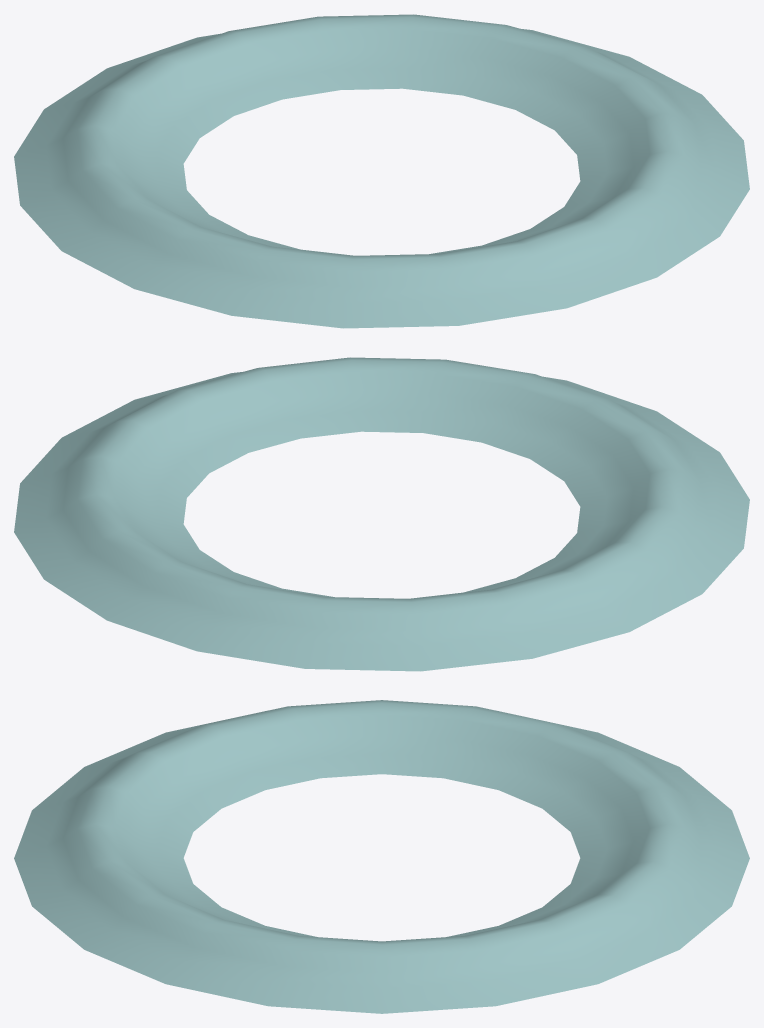
Rendered from ripple.FBX.
The picture shows the model from 3 angles, top to bottom: view 1: azimuth 30°, elevation 25°; view 2: azimuth 150°, elevation 25°; view 3: azimuth 270°, elevation 25°; orthographic projection.
Parts seen in each view (by area): view 1: pTorus1; view 2: pTorus1; view 3: pTorus1.
Part boxes in pixels (x1,y1,x2,y2): pTorus1: (14,14,749,328); pTorus1: (14,357,749,671); pTorus1: (14,700,749,1013).
Size of the model in its own units: 9.57 by 0.4927 by 9.57.
